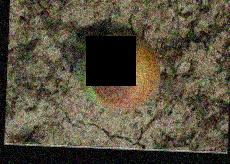rotten apple: (81, 31, 160, 110)
